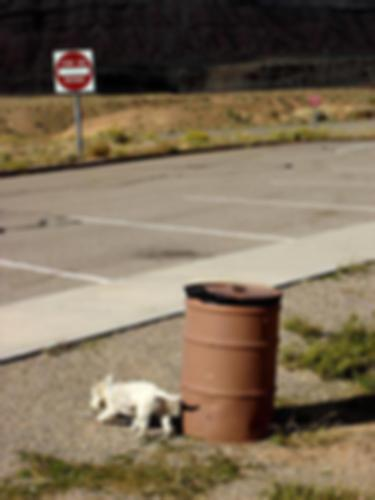Bote de Basura: (182, 278, 274, 446)
